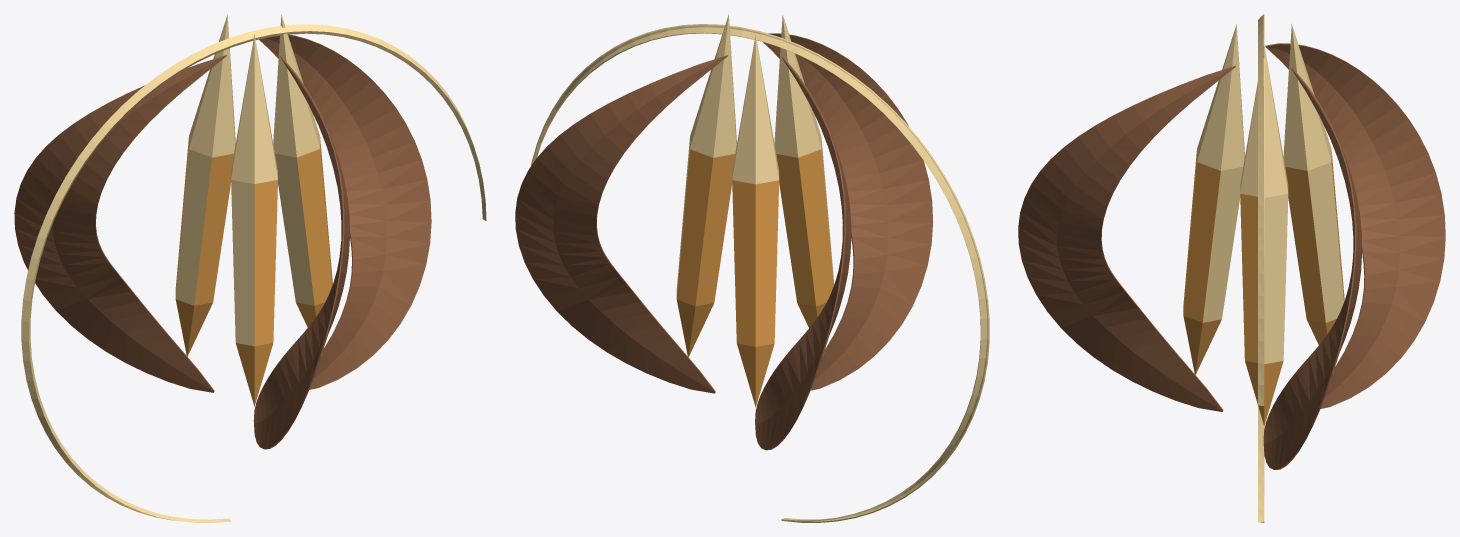
Rendered from VFX_40_RocciaAriete.fbx.
The picture shows the model from 3 angles, left to right: view 1: azimuth 30°, elevation 25°; view 2: azimuth 150°, elevation 25°; view 3: azimuth 270°, elevation 25°; orthographic projection. The views are drawn at different scales.
Parts seen in each view (by area): view 1: VFX_40_RocciaAriete; view 2: VFX_40_RocciaAriete; view 3: VFX_40_RocciaAriete.
Part boxes in pixels (box(x1,y1,x2,y2)): VFX_40_RocciaAriete: box(14, 14, 486, 522); VFX_40_RocciaAriete: box(515, 14, 989, 522); VFX_40_RocciaAriete: box(1018, 14, 1445, 522).
Size of the model in its own units: 344 by 350 by 268.
Materials: 1 (1 with a texture image).
